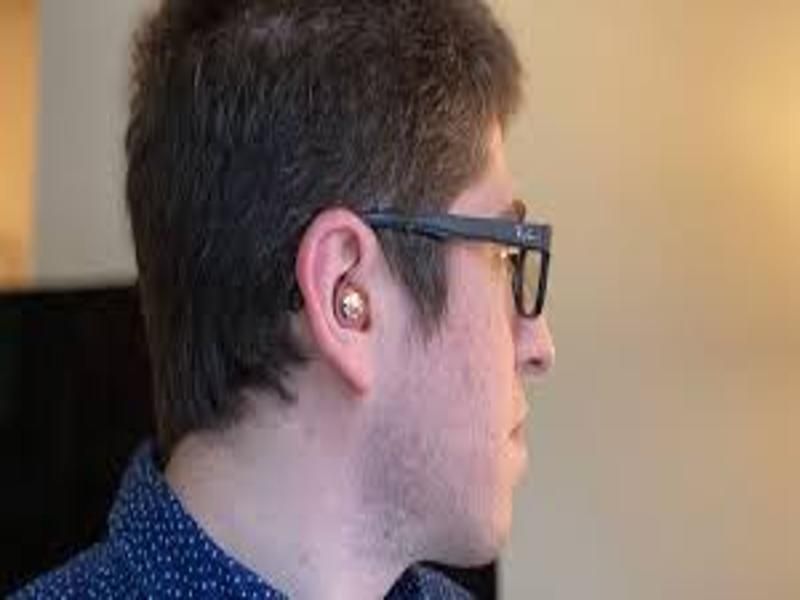headphone: (334, 280, 372, 332)
